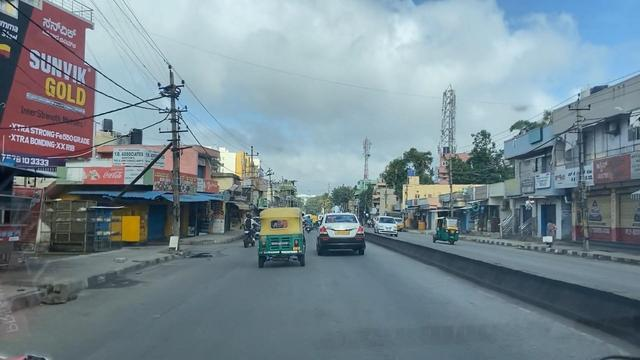LMV: (257, 209, 305, 267), (314, 213, 368, 257)
